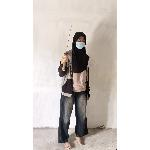Golok: (62, 22, 76, 72)
